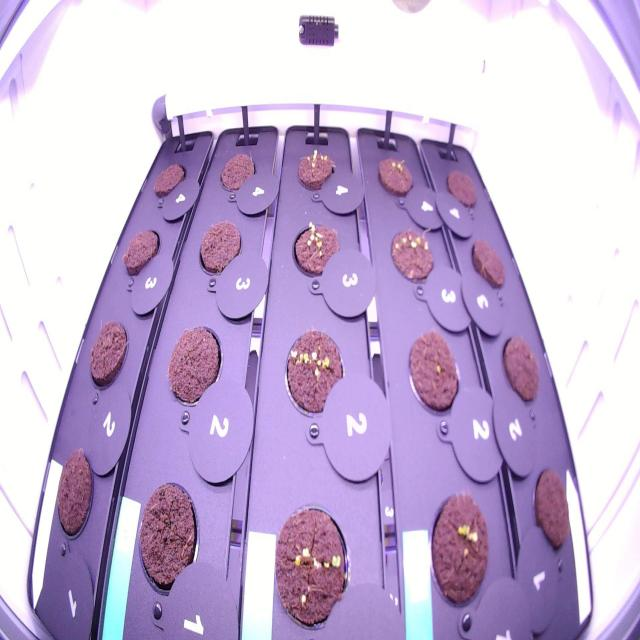germination: (267, 497, 356, 636), (422, 482, 498, 622), (276, 321, 353, 426), (382, 218, 442, 293), (287, 213, 345, 284), (369, 146, 419, 206), (292, 138, 340, 198)
pod: (132, 467, 206, 611), (160, 313, 228, 422), (525, 458, 579, 566), (403, 324, 464, 419), (49, 441, 102, 548), (494, 320, 547, 418), (191, 211, 248, 291), (82, 310, 132, 400), (465, 228, 514, 298), (116, 214, 164, 284), (215, 141, 261, 204), (439, 154, 483, 217), (147, 153, 190, 206)
